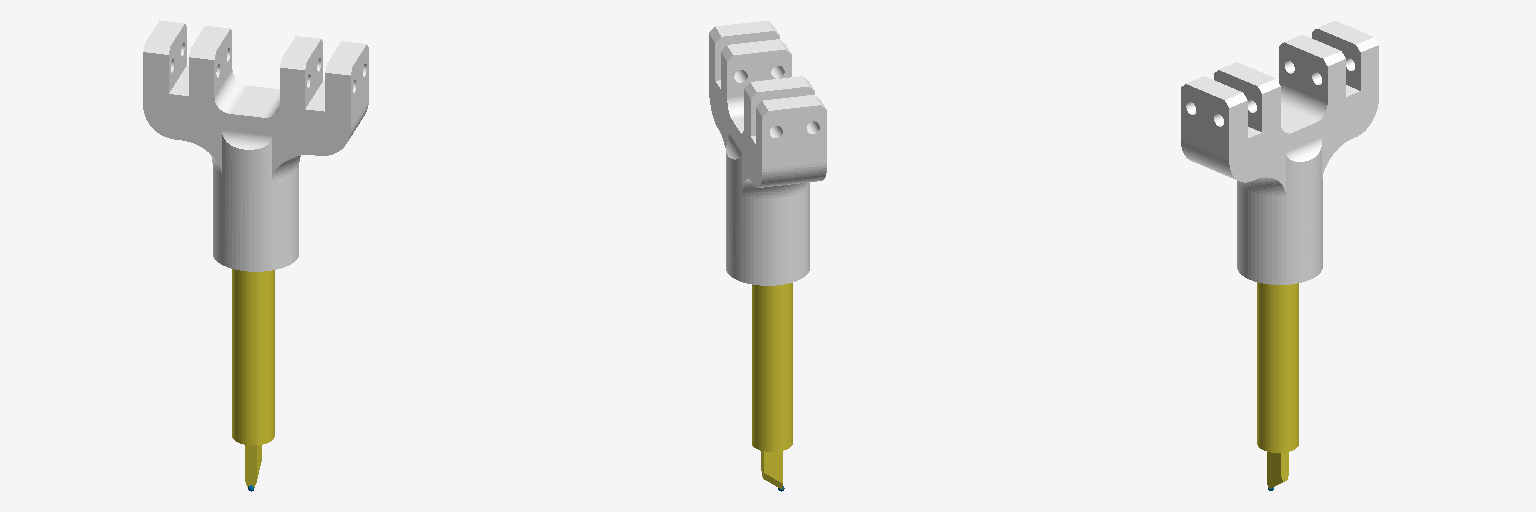
The robot description file, URDF, robot "panda":
<?xml version="1.0" ?>
<!-- =================================================================================== -->
<!-- |    This document was autogenerated by xacro from panda_arm_hand.urdf.xacro      | -->
<!-- |    EDITING THIS FILE BY HAND IS NOT RECOMMENDED                                 | -->
<!-- =================================================================================== -->
<robot name="panda" xmlns:xacro="http://www.ros.org/wiki/xacro">
  <link name="panda_link0">
  	<inertial>
      <origin rpy="0 0 0" xyz="0 0 0.05"/>
       <mass value="2.9"/>
       <inertia ixx="0.1" ixy="0" ixz="0" iyy="0.1" iyz="0" izz="0.1"/>
    </inertial>
    <visual>
      <geometry>
        <mesh filename="meshes/collision/link0.obj"/>
      </geometry>
      <material name="panda_white">
    		<color rgba="1. 1. 1. 1."/>
  		</material>
    </visual>
    <collision>
      <geometry>
        <mesh filename="meshes/collision/link0.obj"/>
      </geometry>
      <material name="panda_white"/>
    </collision>
  </link>
  <link name="panda_link1">
  	<inertial>
      <origin rpy="0 0 0" xyz="0 -0.04 -0.05"/>
       <mass value="2.7"/>
       <inertia ixx="0.1" ixy="0" ixz="0" iyy="0.1" iyz="0" izz="0.1"/>
    </inertial>
    <visual>
      <geometry>
        <mesh filename="meshes/visual/link1.obj"/>
      </geometry>
      <material name="panda_white"/>
    </visual>
    <collision>
      <geometry>
        <mesh filename="meshes/collision/link1.obj"/>
      </geometry>
      <material name="panda_white"/>
    </collision>
  </link>
  <joint name="panda_joint1" type="revolute">
    <safety_controller k_position="100.0" k_velocity="40.0" soft_lower_limit="-2.8973" soft_upper_limit="2.8973"/>
    <origin rpy="0 0 0" xyz="0 0 0.333"/>
    <parent link="panda_link0"/>
    <child link="panda_link1"/>
    <axis xyz="0 0 1"/>
        <limit effort="87" lower="-2.9671" upper="2.9671" velocity="2.3925" />
  </joint>
  <link name="panda_link2">
  	<inertial>
      <origin rpy="0 0 0" xyz="0 -0.04 0.06"/>
       <mass value="2.73"/>
       <inertia ixx="0.1" ixy="0" ixz="0" iyy="0.1" iyz="0" izz="0.1"/>
    </inertial>
    <visual>
      <geometry>
        <mesh filename="meshes/visual/link2.obj"/>
      </geometry>
      <material name="panda_white"/>
    </visual>
    <collision>
      <geometry>
        <mesh filename="meshes/collision/link2.obj"/>
      </geometry>
      <material name="panda_white"/>
    </collision>
  </link>
  <joint name="panda_joint2" type="revolute">
    <safety_controller k_position="100.0" k_velocity="40.0" soft_lower_limit="-1.7628" soft_upper_limit="1.7628"/>
    <origin rpy="-1.57079632679 0 0" xyz="0 0 0"/>
    <parent link="panda_link1"/>
    <child link="panda_link2"/>
    <axis xyz="0 0 1"/>
        <limit effort="87" lower="-1.8326" upper="1.8326" velocity="2.3925" />
  </joint>
  <link name="panda_link3">
	  <inertial>
      <origin rpy="0 0 0" xyz="0.01 0.01 -0.05"/>
       <mass value="2.04"/>
       <inertia ixx="0.1" ixy="0" ixz="0" iyy="0.1" iyz="0" izz="0.1"/>
    </inertial>
    <visual>
      <geometry>
        <mesh filename="meshes/visual/link3.obj"/>
      </geometry>
      <material name="panda_red">
    		<color rgba="1. 1. 1. 1."/>
  		</material>
    </visual>
    <collision>
      <geometry>
        <mesh filename="meshes/collision/link3.obj"/>
      </geometry>
    </collision>
  </link>
  <joint name="panda_joint3" type="revolute">
    <safety_controller k_position="100.0" k_velocity="40.0" soft_lower_limit="-2.8973" soft_upper_limit="2.8973"/>
    <origin rpy="1.57079632679 0 0" xyz="0 -0.316 0"/>
    <parent link="panda_link2"/>
    <child link="panda_link3"/>
    <axis xyz="0 0 1"/>
        <limit effort="87" lower="-2.9671" upper="2.9671" velocity="2.3925" />
  </joint>
  <link name="panda_link4">
  	<inertial>
      <origin rpy="0 0 0" xyz="-0.03 0.03 0.02"/>
       <mass value="2.08"/>
       <inertia ixx="0.1" ixy="0" ixz="0" iyy="0.1" iyz="0" izz="0.1"/>
    </inertial>
    <visual>
      <geometry>
        <mesh filename="meshes/visual/link4.obj"/>
      </geometry>
      <material name="panda_white"/>
    </visual>
    <collision>
      <geometry>
        <mesh filename="meshes/collision/link4.obj"/>
      </geometry>
      <material name="panda_white"/>
    </collision>
  </link>
  <joint name="panda_joint4" type="revolute">
    <safety_controller k_position="100.0" k_velocity="40.0" soft_lower_limit="-3.0718" soft_upper_limit="-0.0698"/>
    <origin rpy="1.57079632679 0 0" xyz="0.0825 0 0"/>
    <parent link="panda_link3"/>
    <child link="panda_link4"/>
    <axis xyz="0 0 1"/>
        <limit effort="87" lower="-3.1416" upper="0.0873" velocity="2.3925" />
  </joint>
  <link name="panda_link5">
  	<inertial>
      <origin rpy="0 0 0" xyz="0 0.04 -0.12"/>
       <mass value="3"/>
       <inertia ixx="0.1" ixy="0" ixz="0" iyy="0.1" iyz="0" izz="0.1"/>
    </inertial>
    <visual>
      <geometry>
        <mesh filename="meshes/visual/link5.obj"/>
      </geometry>
      <material name="panda_white"/>
    </visual>
    <collision>
      <geometry>
        <mesh filename="meshes/collision/link5.obj"/>
      </geometry>
      <material name="panda_white"/>
    </collision>
  </link>
  <joint name="panda_joint5" type="revolute">
    <safety_controller k_position="100.0" k_velocity="40.0" soft_lower_limit="-2.8973" soft_upper_limit="2.8973"/>
    <origin rpy="-1.57079632679 0 0" xyz="-0.0825 0.384 0"/>
    <parent link="panda_link4"/>
    <child link="panda_link5"/>
    <axis xyz="0 0 1"/>
        <limit effort="12" lower="-2.9671" upper="2.9671" velocity="2.8710" />
  </joint>
  <link name="panda_link6">
  	<inertial>
      <origin rpy="0 0 0" xyz="0.04 0 0"/>
       <mass value="1.3"/>
       <inertia ixx="0.1" ixy="0" ixz="0" iyy="0.1" iyz="0" izz="0.1"/>
    </inertial>
    <visual>
      <geometry>
        <mesh filename="meshes/visual/link6.obj"/>
      </geometry>
      <material name="panda_white"/>
    </visual>
    <collision>
      <geometry>
        <mesh filename="meshes/collision/link6.obj"/>
      </geometry>
      <material name="panda_white"/>
    </collision>
  </link>
  <joint name="panda_joint6" type="revolute">
    <safety_controller k_position="100.0" k_velocity="40.0" soft_lower_limit="-0.0175" soft_upper_limit="3.7525"/>
    <origin rpy="1.57079632679 0 0" xyz="0 0 0"/>
    <parent link="panda_link5"/>
    <child link="panda_link6"/>
    <axis xyz="0 0 1"/>
        <limit effort="12" lower="-0.0873" upper="3.8223" velocity="2.8710" />
  </joint>
  <link name="panda_link7">
  	<inertial>
      <origin rpy="0 0 0" xyz="0 0 0.08"/>
       <mass value=".2"/>
       <inertia ixx="0.1" ixy="0" ixz="0" iyy="0.1" iyz="0" izz="0.1"/>
    </inertial>
    <visual>
      <geometry>
        <mesh filename="meshes/collision/link7.obj"/>
      </geometry>
      <material name="panda_white"/>
    </visual>
    <collision>
      <geometry>
        <mesh filename="meshes/collision/link7.obj"/>
      </geometry>
      <material name="panda_white"/>
    </collision>
  </link>
  <joint name="panda_joint7" type="revolute">
    <safety_controller k_position="100.0" k_velocity="40.0" soft_lower_limit="-2.8973" soft_upper_limit="2.8973"/>
    <origin rpy="1.57079632679 0 0" xyz="0.088 0 0"/>
    <parent link="panda_link6"/>
    <child link="panda_link7"/>
    <axis xyz="0 0 1"/>
        <limit effort="12" lower="-2.9671" upper="2.9671" velocity="2.8710" />
  </joint>
  <link name="panda_link8">
  	 <inertial>
      <origin rpy="0 0 0" xyz="0 0 0"/>
       <mass value="0.0"/>
       <inertia ixx="0.1" ixy="0" ixz="0" iyy="0.1" iyz="0" izz="0.1"/>
    </inertial>
  </link>
  <joint name="panda_joint8" type="fixed">
    <origin rpy="0 0 0" xyz="0 0 0.107"/>
    <parent link="panda_link7"/>
    <child link="panda_link8"/>
    <axis xyz="0 0 0"/>
  </joint>
  <joint name="panda_hand_joint" type="fixed">
    <parent link="panda_link8"/>
    <child link="panda_hand"/>
    <origin rpy="0 0 -0.785398163397" xyz="0 0 0"/>
  </joint>
  <link name="panda_hand">
  	<inertial>
      <origin rpy="0 0 0" xyz="0 0 0.04"/>
       <mass value=".81"/>
       <inertia ixx="0.1" ixy="0" ixz="0" iyy="0.1" iyz="0" izz="0.1"/>
    </inertial>
    <visual>
      <geometry>
        <mesh filename="meshes/visual/hand.obj"/>
      </geometry>
      <material name="panda_white"/>
    </visual>
    <collision>
      <geometry>
        <mesh filename="meshes/collision/hand.obj"/>
      </geometry>
      <material name="panda_white"/>
    </collision>
  </link>
  
  <link name="panda_marker_holder">
  
  <inertial>
    <origin xyz="0 0 0.02" rpy="0 0 0"/>
    <mass value="0.2"/>
    <inertia ixx="0.001" ixy="0" ixz="0"
             iyy="0.001" iyz="0"
             izz="0.001"/>
  </inertial>

  <visual>
    <geometry>
      <mesh filename="meshes/visual/marker_holder.obj"/>
    </geometry>
    <material name="panda_white"/>
  </visual>

  <collision>
    <geometry>
      <mesh filename="meshes/collision/marker_holder.obj"/>
    </geometry>
  </collision>
</link>

  
   <link name="panda_marker">
   
  <inertial>
    <origin xyz="0 0 0.05" rpy="0 0 0"/>
    <mass value="0.05"/>
    <inertia ixx="0.0002" ixy="0" ixz="0"
             iyy="0.0002" iyz="0"
             izz="0.0002"/>
  </inertial>

  <visual>
    <geometry>
      <mesh filename="meshes/visual/marker.obj"/>
    </geometry>
    <material name="marker_black"/>
  </visual>

  <collision>
    <geometry>
      <mesh filename="meshes/collision/marker.obj"/>
    </geometry>
  </collision>
</link>

<joint name="panda_marker_holder_joint" type="fixed">
  <parent link="panda_hand"/>
  <child link="panda_marker_holder"/>
  <origin xyz="-0.01 -0.032 0.065" rpy="0 0 0"/>
</joint>

<joint name="panda_marker_joint" type="fixed">
  <parent link="panda_marker_holder"/>
  <child link="panda_marker"/>
  <origin xyz="-0.075 0.0285 0.15" rpy="-1.57079632679 0 0"/>
</joint>
<link name="panda_tip">
  <inertial>
    <origin xyz="0 0 0.02" rpy="0 0 0"/>
    <mass value="0.01"/>
    <inertia ixx="0.00005" ixy="0" ixz="0"
             iyy="0.00005" iyz="0"
             izz="0.00005"/>
  </inertial>

  <visual>
    <geometry>
      <mesh filename="meshes/visual/tip.obj"/>
    </geometry>
    <material name="marker_black"/>
  </visual>

  <collision>
    <geometry>
      <mesh filename="meshes/collision/tip.obj"/>
    </geometry>
  </collision>
</link>

<joint name="panda_tip_joint" type="fixed">
  <parent link="panda_marker"/>
  <child link="panda_tip"/>
  <origin xyz="0.08125 0.0035 0.003625" rpy="0 0 0"/>
</joint>

  
</robot>

--- What the picture shows (computed from the rendered views, not written in the file) ---
Views: 3 orthographic renders of the robot side by side, from view 1: azimuth 30°, elevation 25°; view 2: azimuth 150°, elevation 25°; view 3: azimuth 270°, elevation 25°.
Robot: panda — 13 links, 12 joints (7 revolute, 5 fixed); root link panda_link0; default pose: every joint at zero.
Visible links, largest first — view 1: panda_marker_holder, panda_marker; view 2: panda_marker_holder, panda_marker; view 3: panda_marker_holder, panda_marker.
Boxes of the visible links, x1,y1,x2,y2 form: panda_marker_holder: (143,20,368,271); panda_marker: (232,269,274,487); panda_marker_holder: (709,21,826,285); panda_marker: (752,283,792,489); panda_marker_holder: (1181,21,1378,284); panda_marker: (1257,282,1298,488).
Bounding box of the posed robot: 0.0608 × 0.0608 × 0.1475 m (x, y, z).
3 mesh visuals loaded from 12 distinct referenced files (3 OBJ); not drawn: 9 (reference not matched to a file when rendering).